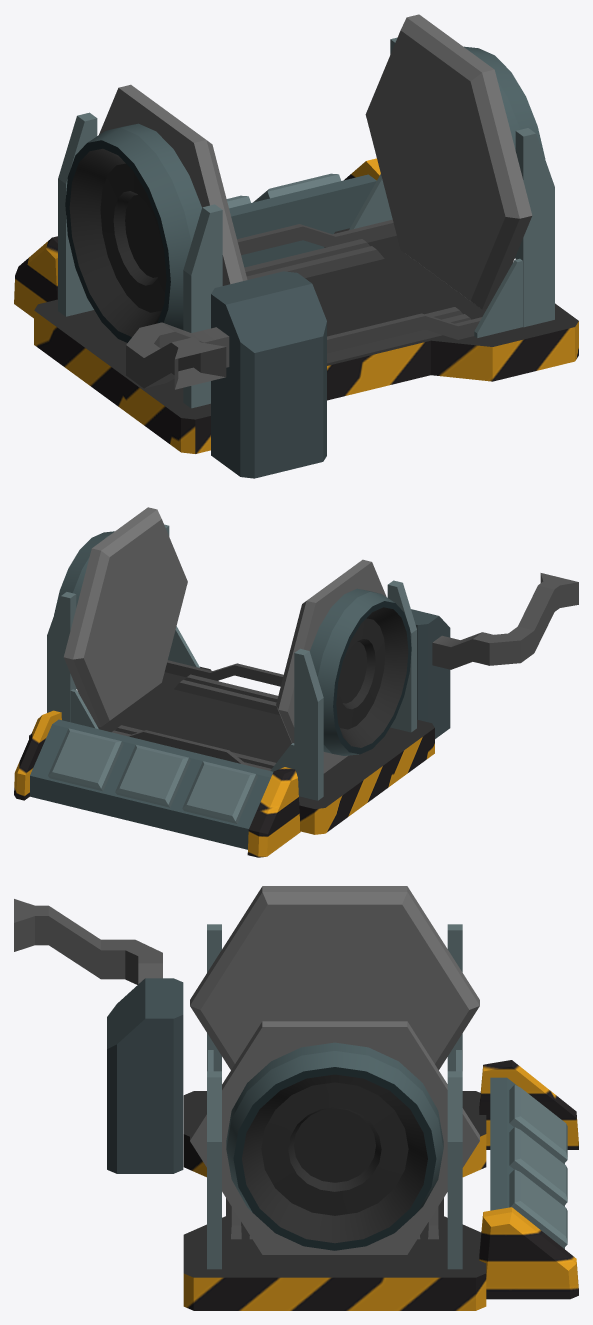
The model's file is SM_generator.fbx.
3 renders of one model, top to bottom at view 1: azimuth 30°, elevation 25°; view 2: azimuth 150°, elevation 25°; view 3: azimuth 270°, elevation 25°, orthographic. The views are drawn at different scales.
Visible parts, largest first — view 1: SM_generator; view 2: SM_generator; view 3: SM_generator.
Boxes of the visible parts, box(x1,y1,x2,y2) form: SM_generator: box(14, 14, 578, 478); SM_generator: box(14, 507, 578, 857); SM_generator: box(14, 886, 578, 1310).
Bounding box in the file's own units: 229 × 120 × 234.
2 materials, 2 textured.
